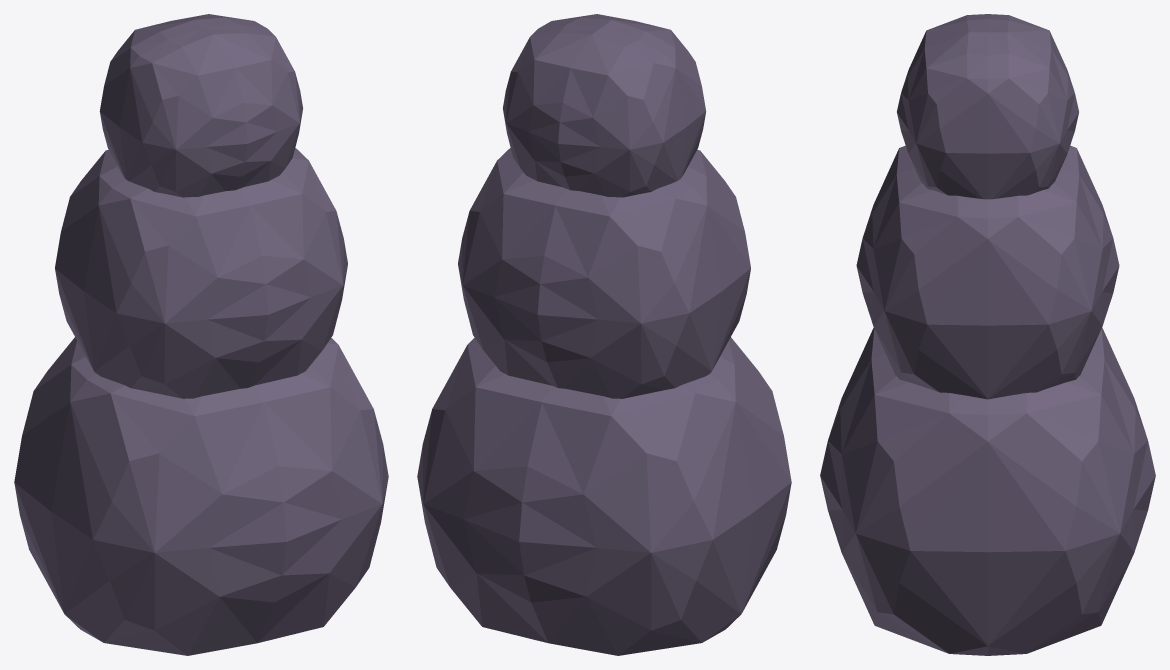
Rendered from Bush_Stacked.fbx.
3 renders of one model, left to right at view 1: azimuth 30°, elevation 25°; view 2: azimuth 150°, elevation 25°; view 3: azimuth 270°, elevation 25°, orthographic.
Parts seen in each view (by area): view 1: Bush_Stacked; view 2: Bush_Stacked; view 3: Bush_Stacked.
Part boxes in pixels (x1,y1,x2,y2): Bush_Stacked: [14, 14, 388, 655]; Bush_Stacked: [417, 14, 791, 655]; Bush_Stacked: [820, 14, 1155, 655].
Size of the model in its own units: 1.57 by 3.01 by 1.55.
